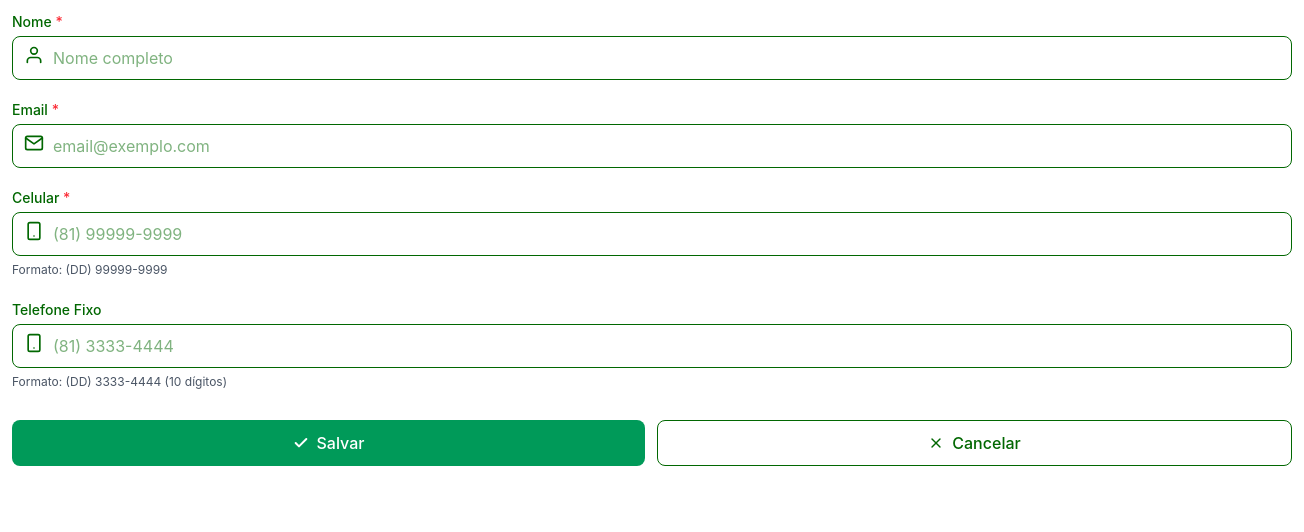
it: ContatoForm Component › deve validar campos obrigatórios
This screenshot has width=1304, height=532.
Click the button "Salvar": [328, 443] box [12,420,645,466]
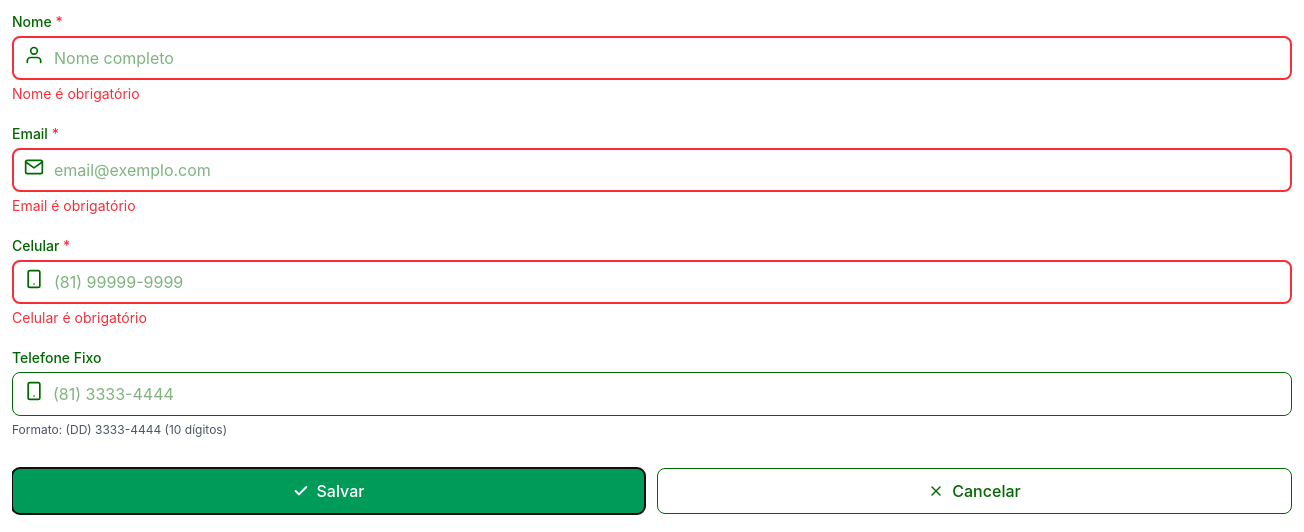
Expected: the text "Nome é obrigatório" is shown, [12,85,140,102]
Expected: the text "Email é obrigatório" is shown, [12,197,136,214]
Expected: the text "Celular é obrigatório" is shown, [12,309,147,326]
